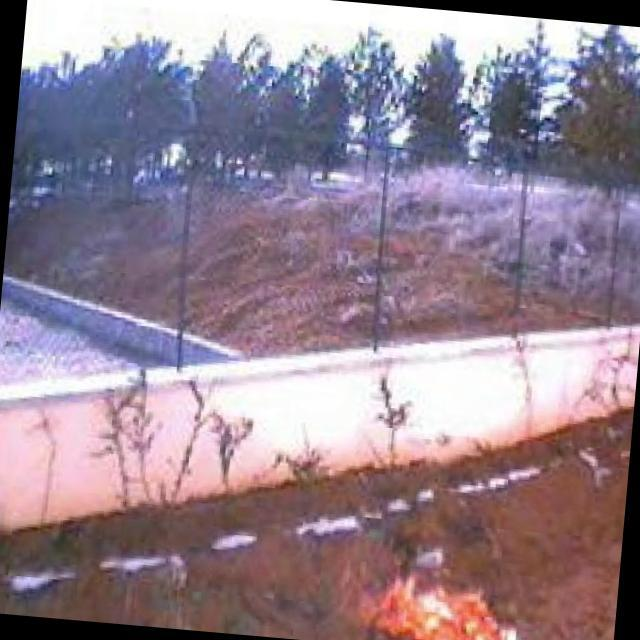Fire: (340, 564, 545, 640)
